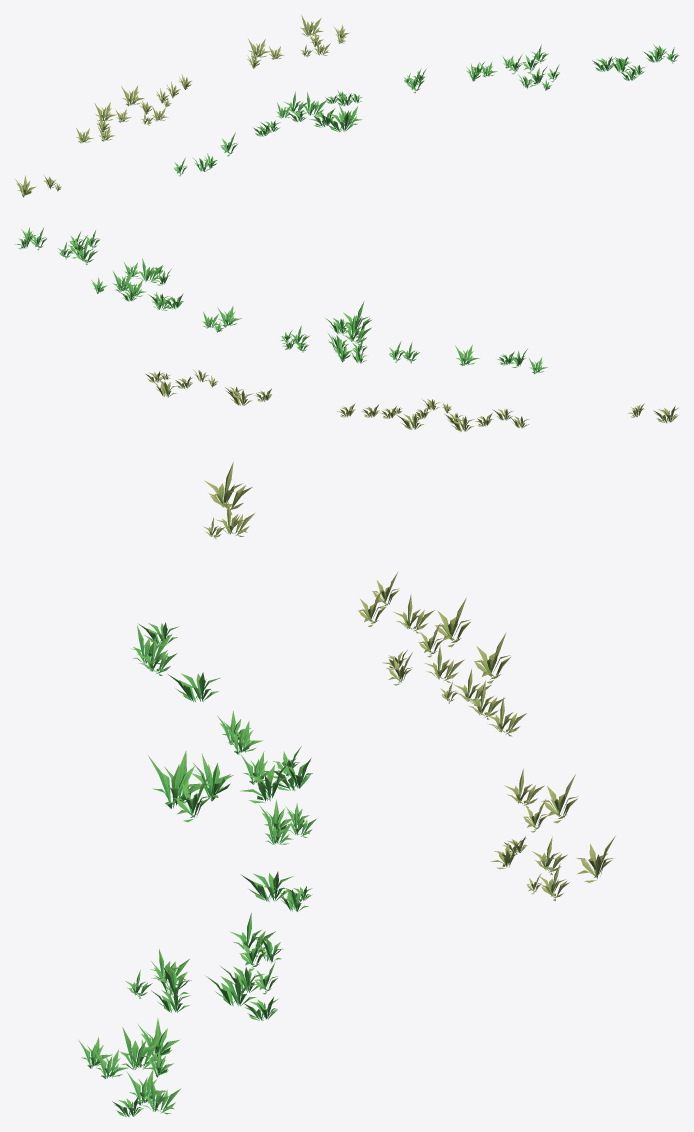
Rendered from area_07_10.fbx.
3 renders of one model, top to bottom at view 1: azimuth 30°, elevation 25°; view 2: azimuth 150°, elevation 25°; view 3: azimuth 270°, elevation 25°, orthographic. The views are drawn at different scales.
Parts seen in each view (by area): view 1: area_07_10; view 2: area_07_10; view 3: area_07_10.
Part boxes in pixels (bbox=[...]): area_07_10: bbox=[14, 15, 679, 197]; area_07_10: bbox=[14, 227, 678, 431]; area_07_10: bbox=[78, 462, 615, 1116].
Size of the model in its own units: 41.59 by 1.64 by 15.23.
